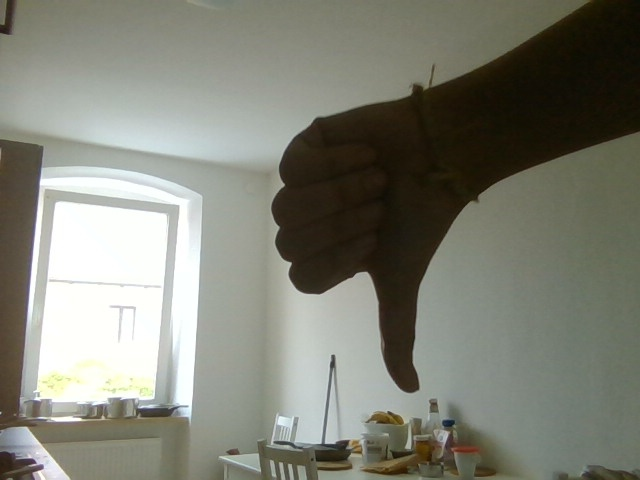Thumbs down: (260, 88, 467, 400)
